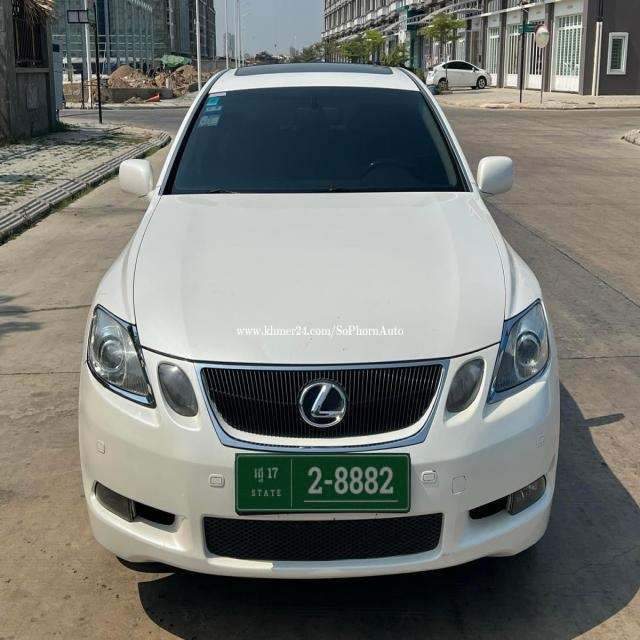Plate Number: (235, 453, 410, 512)
